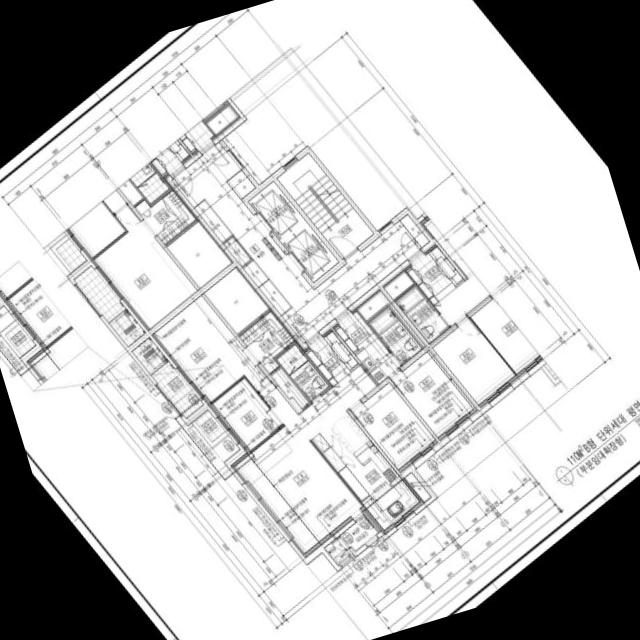background: (0, 0, 640, 640)
space_balconi: (131, 336, 203, 417), (194, 409, 225, 441)
space_bedroom: (151, 294, 270, 403), (351, 382, 436, 471), (391, 351, 476, 439), (209, 377, 281, 452)
space_dressroom: (239, 310, 294, 373)
space_elevator: (280, 220, 338, 281), (247, 180, 305, 241)
space_elevator_hall: (171, 141, 421, 342)
space_front: (303, 328, 358, 386), (332, 309, 375, 353)
space_kitchen: (310, 410, 422, 533), (355, 335, 400, 383)
space_living_room: (230, 364, 376, 556)
space_other: (203, 266, 269, 333), (356, 289, 425, 346), (194, 199, 231, 241), (271, 367, 308, 407), (341, 515, 377, 550), (258, 278, 290, 314), (399, 213, 429, 246), (226, 169, 255, 198), (223, 236, 250, 265), (404, 472, 430, 501), (243, 259, 268, 286)
space_outdoor_room: (324, 536, 352, 564)
space_staircase: (276, 152, 373, 258)
space_toilet: (368, 306, 421, 363), (276, 343, 328, 400)
